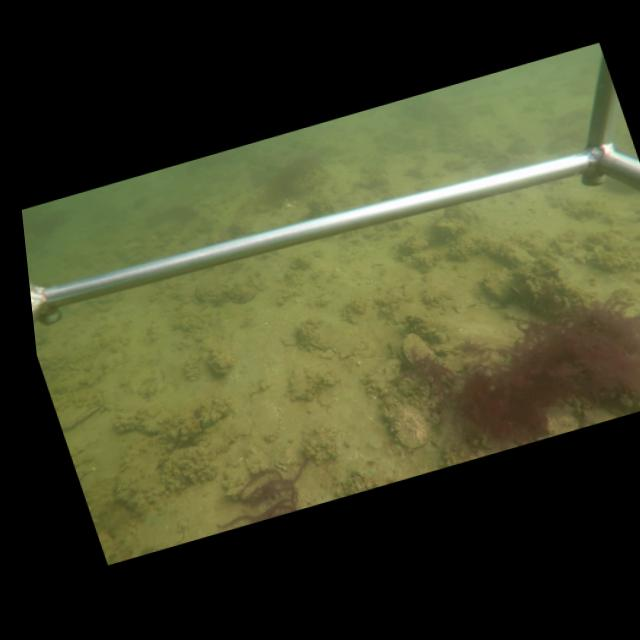Oyster-Closed: (385, 397, 435, 450), (56, 399, 106, 431)
Oyster-Open: (393, 331, 445, 371)
